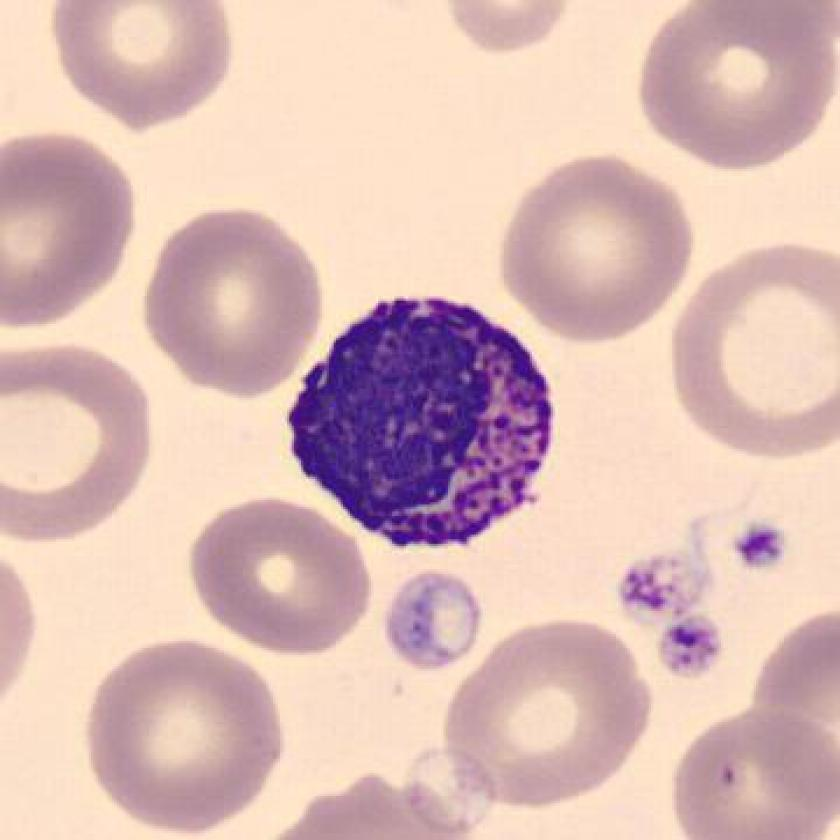basophil: (279, 288, 566, 559)
